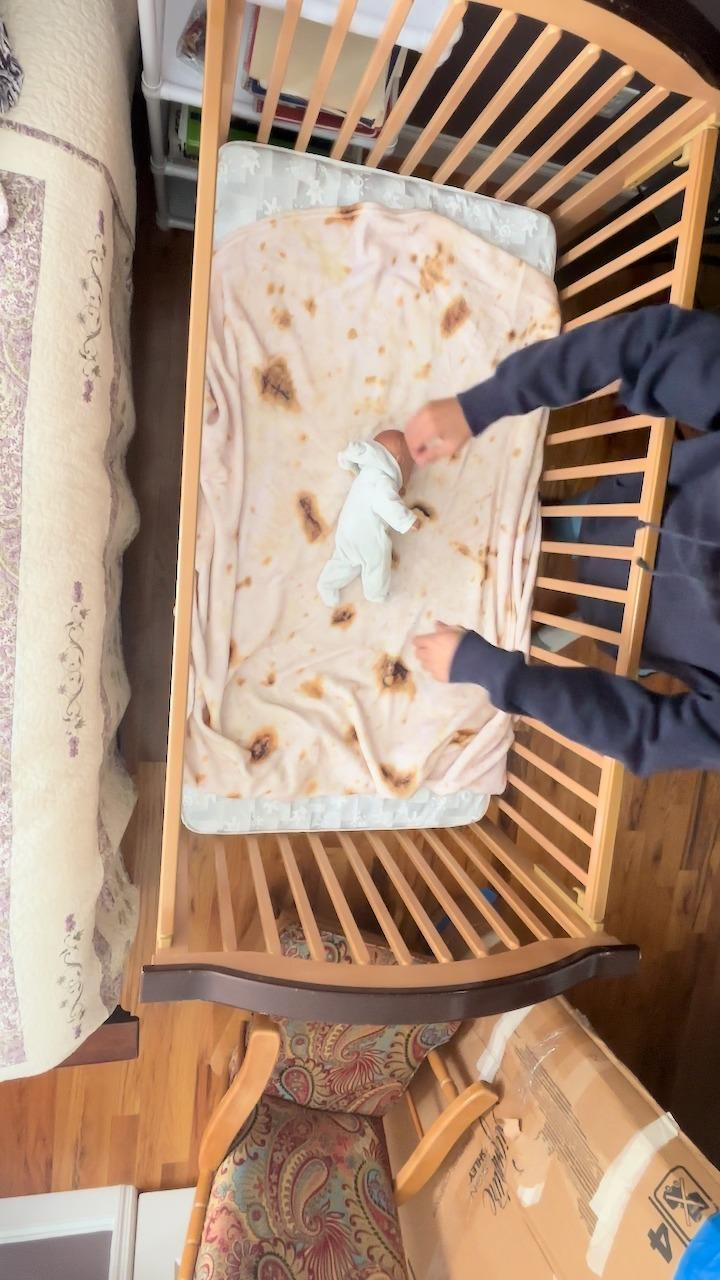baby: (306, 426, 430, 614)
